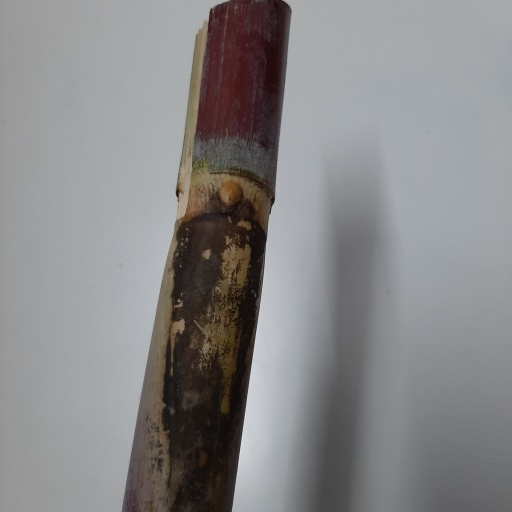Bud: (217, 180, 243, 209)
